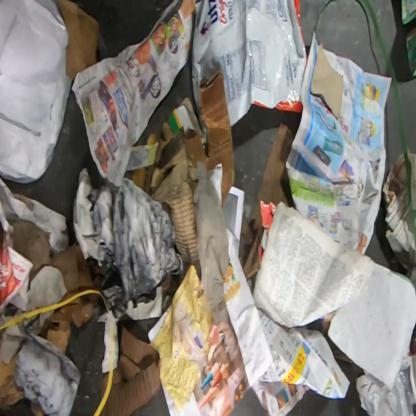cardboard: (124, 68, 235, 264), (100, 325, 162, 415), (310, 42, 344, 122), (0, 348, 25, 416), (40, 320, 71, 356), (402, 1, 416, 76)
soft_plastic: (192, 0, 308, 129), (0, 0, 73, 185)
